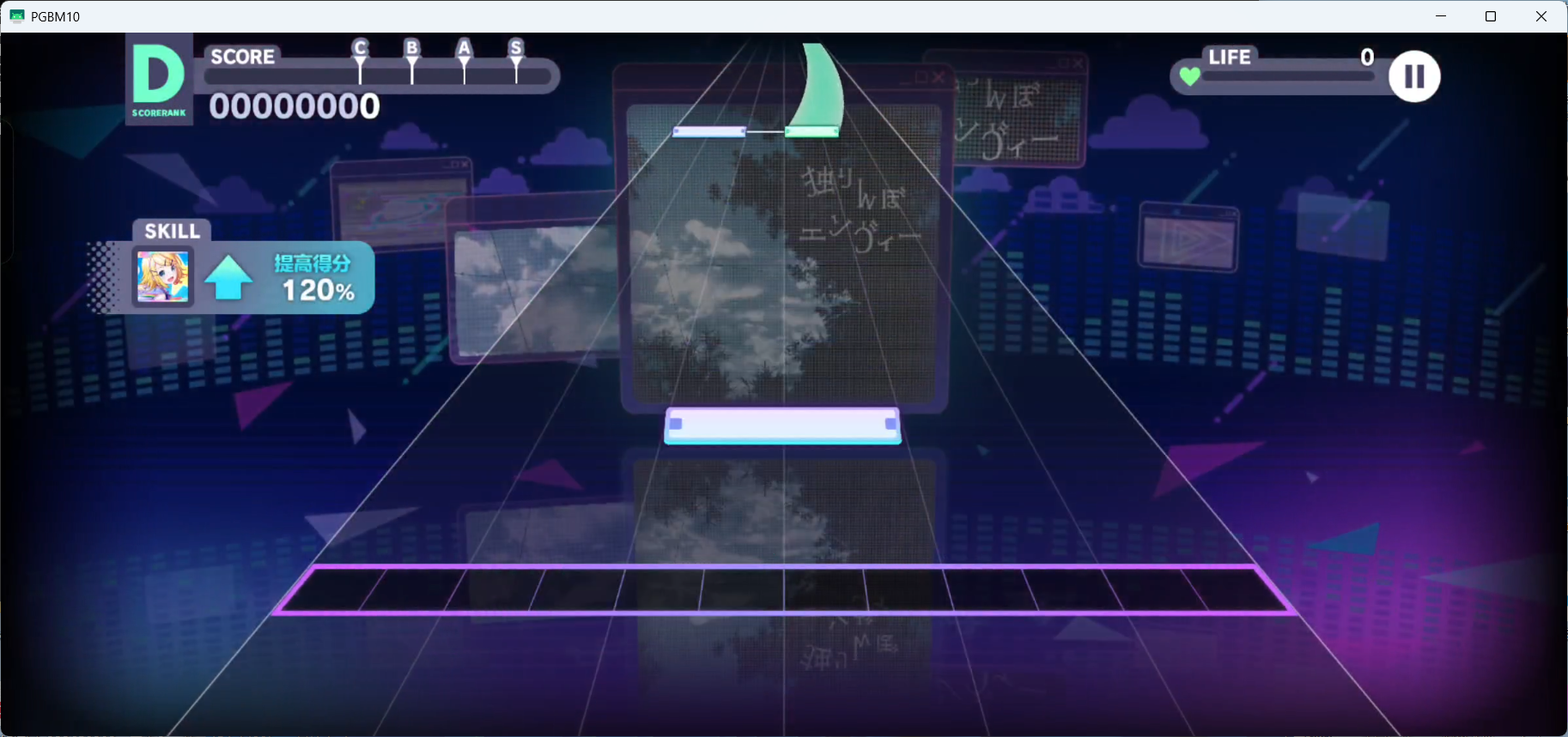hold: (787, 43, 844, 125)
tap: (663, 408, 903, 445), (672, 126, 746, 137), (784, 126, 839, 138)
